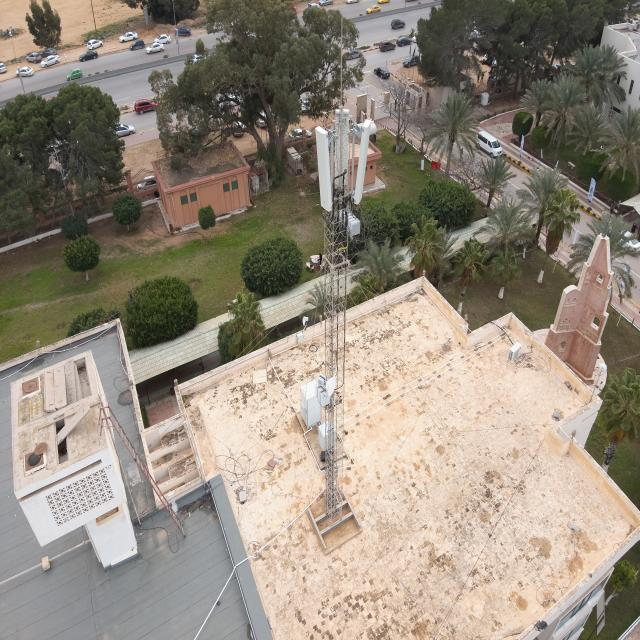antenna: (353, 118, 372, 204), (315, 126, 333, 213), (334, 108, 349, 191)
lighnig-rad: (340, 16, 343, 108)
microware-dish: (317, 374, 337, 397)
power-box: (314, 382, 331, 407)
radio-unit: (339, 207, 361, 240)
